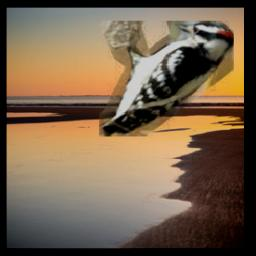Woodpecker: (100, 22, 235, 137)
